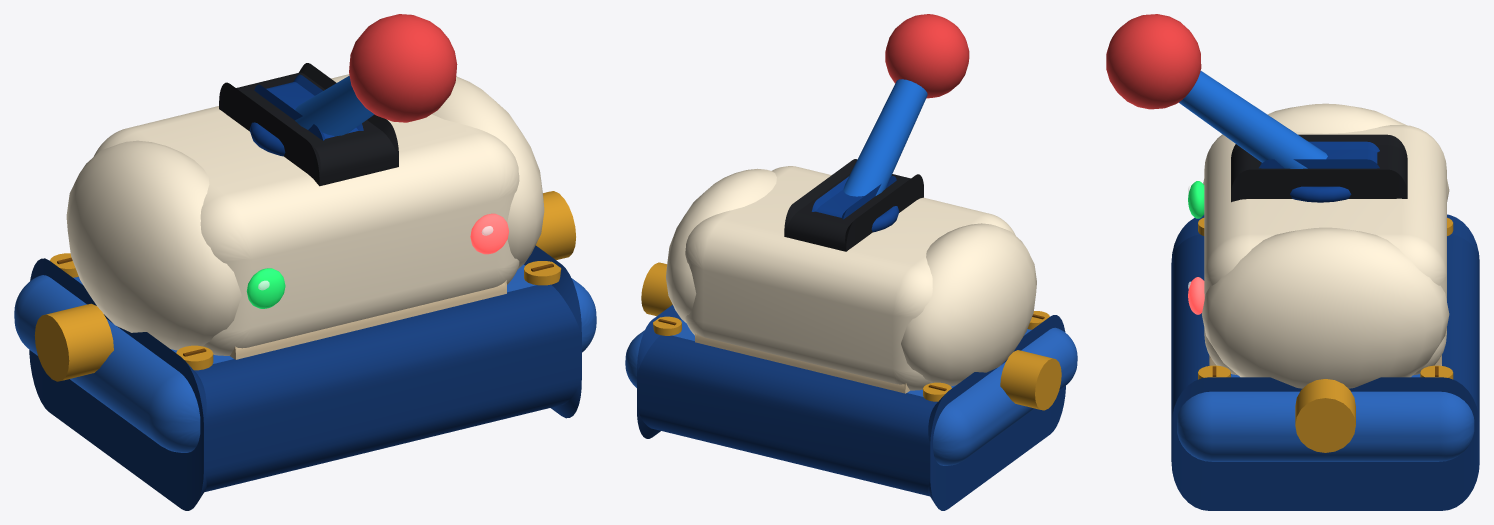
The model's file is circuit-switch.glb.
The picture shows the model from 3 angles, left to right: view 1: azimuth 30°, elevation 25°; view 2: azimuth 150°, elevation 25°; view 3: azimuth 270°, elevation 25°; orthographic projection. The views are drawn at different scales.
Visible parts, largest first — view 1: CIRCUIT_SWITCH_BASE_DARK, CIRCUIT_SWITCH_BODY, CIRCUIT_SWITCH_BODY_LEFT_ROUND, CIRCUIT_SWITCH_BASE, CIRCUIT_SWITCH_KNOB, CIRCUIT_SWITCH_SLOT, CIRCUIT_SWITCH_BODY_RIGHT_ROUND, CIRCUIT_SWITCH_CONNECTOR_LEFT_OUTER, CIRCUIT_SWITCH_BODY_SHADOW, CIRCUIT_SWITCH_LEVER, CIRCUIT_SWITCH_CONNECTOR_RIGHT_OUTER, CIRCUIT_SWITCH_PIVOT_SOCKET (+4 smaller); view 2: CIRCUIT_SWITCH_BASE_DARK, CIRCUIT_SWITCH_BODY, CIRCUIT_SWITCH_BODY_LEFT_ROUND, CIRCUIT_SWITCH_BASE, CIRCUIT_SWITCH_KNOB, CIRCUIT_SWITCH_SLOT, CIRCUIT_SWITCH_BODY_RIGHT_ROUND, CIRCUIT_SWITCH_LEVER, CIRCUIT_SWITCH_CONNECTOR_LEFT_OUTER, CIRCUIT_SWITCH_BODY_SHADOW, CIRCUIT_SWITCH_PIVOT_SOCKET, CIRCUIT_SWITCH_CONNECTOR_RIGHT_OUTER; view 3: CIRCUIT_SWITCH_BODY_RIGHT_ROUND, CIRCUIT_SWITCH_BASE_DARK, CIRCUIT_SWITCH_BODY, CIRCUIT_SWITCH_BASE, CIRCUIT_SWITCH_KNOB, CIRCUIT_SWITCH_SLOT, CIRCUIT_SWITCH_LEVER, CIRCUIT_SWITCH_CONNECTOR_RIGHT_OUTER, CIRCUIT_SWITCH_BODY_LEFT_ROUND, CIRCUIT_SWITCH_PIVOT_SOCKET, CIRCUIT_SWITCH_PIVOT_RING, CIRCUIT_SWITCH_LED_GREEN (+1 smaller).
Boxes of the visible parts, x1=… form: CIRCUIT_SWITCH_BASE_DARK: x1=29, y1=245, x2=581, y2=510; CIRCUIT_SWITCH_BODY: x1=94, y1=74, x2=519, y2=355; CIRCUIT_SWITCH_BODY_LEFT_ROUND: x1=66, y1=140, x2=241, y2=350; CIRCUIT_SWITCH_BASE: x1=14, y1=264, x2=596, y2=452; CIRCUIT_SWITCH_KNOB: x1=349, y1=14, x2=457, y2=122; CIRCUIT_SWITCH_SLOT: x1=219, y1=63, x2=398, y2=186; CIRCUIT_SWITCH_BODY_RIGHT_ROUND: x1=432, y1=76, x2=544, y2=268; CIRCUIT_SWITCH_CONNECTOR_LEFT_OUTER: x1=34, y1=303, x2=113, y2=381; CIRCUIT_SWITCH_BODY_SHADOW: x1=230, y1=280, x2=506, y2=359; CIRCUIT_SWITCH_LEVER: x1=295, y1=75, x2=374, y2=136; CIRCUIT_SWITCH_CONNECTOR_RIGHT_OUTER: x1=536, y1=191, x2=575, y2=260; CIRCUIT_SWITCH_PIVOT_SOCKET: x1=254, y1=74, x2=363, y2=140; CIRCUIT_SWITCH_BASE_DARK: x1=637, y1=304, x2=1065, y2=510; CIRCUIT_SWITCH_BODY: x1=685, y1=166, x2=1015, y2=390; CIRCUIT_SWITCH_BODY_LEFT_ROUND: x1=901, y1=223, x2=1036, y2=386; CIRCUIT_SWITCH_BASE: x1=625, y1=320, x2=1077, y2=465; CIRCUIT_SWITCH_KNOB: x1=885, y1=14, x2=969, y2=98; CIRCUIT_SWITCH_SLOT: x1=784, y1=159, x2=923, y2=251; CIRCUIT_SWITCH_BODY_RIGHT_ROUND: x1=666, y1=168, x2=776, y2=322; CIRCUIT_SWITCH_LEVER: x1=843, y1=79, x2=927, y2=196; CIRCUIT_SWITCH_CONNECTOR_LEFT_OUTER: x1=1000, y1=350, x2=1061, y2=410; CIRCUIT_SWITCH_BODY_SHADOW: x1=695, y1=332, x2=909, y2=393; CIRCUIT_SWITCH_PIVOT_SOCKET: x1=811, y1=176, x2=896, y2=219; CIRCUIT_SWITCH_CONNECTOR_RIGHT_OUTER: x1=641, y1=262, x2=672, y2=316; CIRCUIT_SWITCH_BODY_RIGHT_ROUND: x1=1202, y1=227, x2=1449, y2=388; CIRCUIT_SWITCH_BASE_DARK: x1=1171, y1=214, x2=1479, y2=510; CIRCUIT_SWITCH_BODY: x1=1204, y1=125, x2=1446, y2=375; CIRCUIT_SWITCH_BASE: x1=1177, y1=374, x2=1474, y2=461; CIRCUIT_SWITCH_KNOB: x1=1106, y1=14, x2=1201, y2=109; CIRCUIT_SWITCH_SLOT: x1=1231, y1=134, x2=1407, y2=202; CIRCUIT_SWITCH_LEVER: x1=1179, y1=71, x2=1327, y2=168; CIRCUIT_SWITCH_CONNECTOR_RIGHT_OUTER: x1=1295, y1=379, x2=1355, y2=452; CIRCUIT_SWITCH_BODY_LEFT_ROUND: x1=1203, y1=103, x2=1449, y2=201; CIRCUIT_SWITCH_PIVOT_SOCKET: x1=1259, y1=141, x2=1379, y2=168; CIRCUIT_SWITCH_PIVOT_RING: x1=1290, y1=186, x2=1351, y2=202; CIRCUIT_SWITCH_LED_GREEN: x1=1188, y1=181, x2=1204, y2=218.
Bounding box in the file's own units: 2.04 × 1.79 × 1.48.
